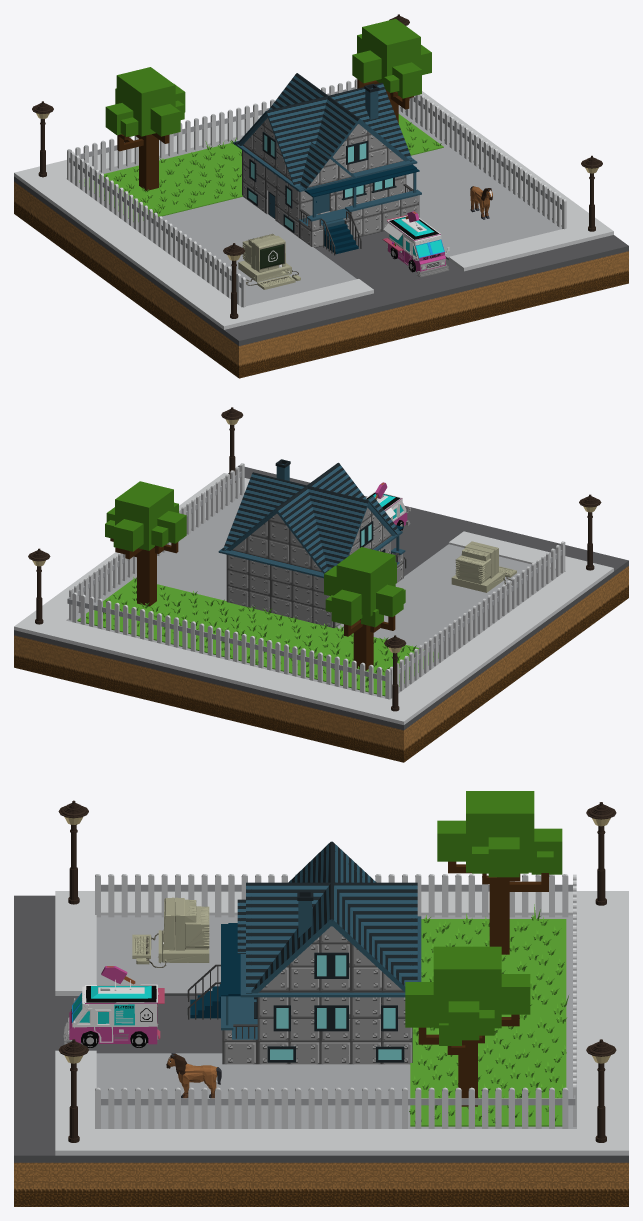
3 views of the same model, one above another, from view 1: azimuth 30°, elevation 25°; view 2: azimuth 150°, elevation 25°; view 3: azimuth 270°, elevation 25° (orthographic). The views are drawn at different scales.
Visible parts, largest first — view 1: Cube.004, Cube.078, VEHICLES_ICE_CREAM_TRUCK, OBJRANDOM_RETRO_PC, ANIMAL_CABALLO; view 2: Cube.004, Cube.078, OBJRANDOM_RETRO_PC, VEHICLES_ICE_CREAM_TRUCK; view 3: Cube.004, Cube.078, VEHICLES_ICE_CREAM_TRUCK, OBJRANDOM_RETRO_PC, ANIMAL_CABALLO.
Part boxes in pixels (<box>): Cube.004: <box>14,14,628,378</box>; Cube.078: <box>233,73,421,255</box>; VEHICLES_ICE_CREAM_TRUCK: <box>382,211,449,277</box>; OBJRANDOM_RETRO_PC: <box>238,233,300,289</box>; ANIMAL_CABALLO: <box>470,186,492,219</box>; Cube.004: <box>14,407,628,762</box>; Cube.078: <box>218,459,406,627</box>; OBJRANDOM_RETRO_PC: <box>451,541,516,592</box>; VEHICLES_ICE_CREAM_TRUCK: <box>366,482,410,530</box>; Cube.004: <box>14,791,628,1206</box>; Cube.078: <box>187,841,421,1064</box>; VEHICLES_ICE_CREAM_TRUCK: <box>63,966,164,1047</box>; OBJRANDOM_RETRO_PC: <box>132,897,209,967</box>; ANIMAL_CABALLO: <box>166,1053,221,1098</box>.
Bounding box in the file's own units: 4000 × 1601 × 4000.
47 materials, 5 textured.
